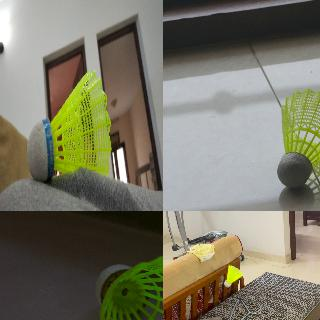shuttlecock: (27, 70, 111, 180), (96, 255, 162, 319), (277, 90, 319, 189), (224, 265, 242, 287)
